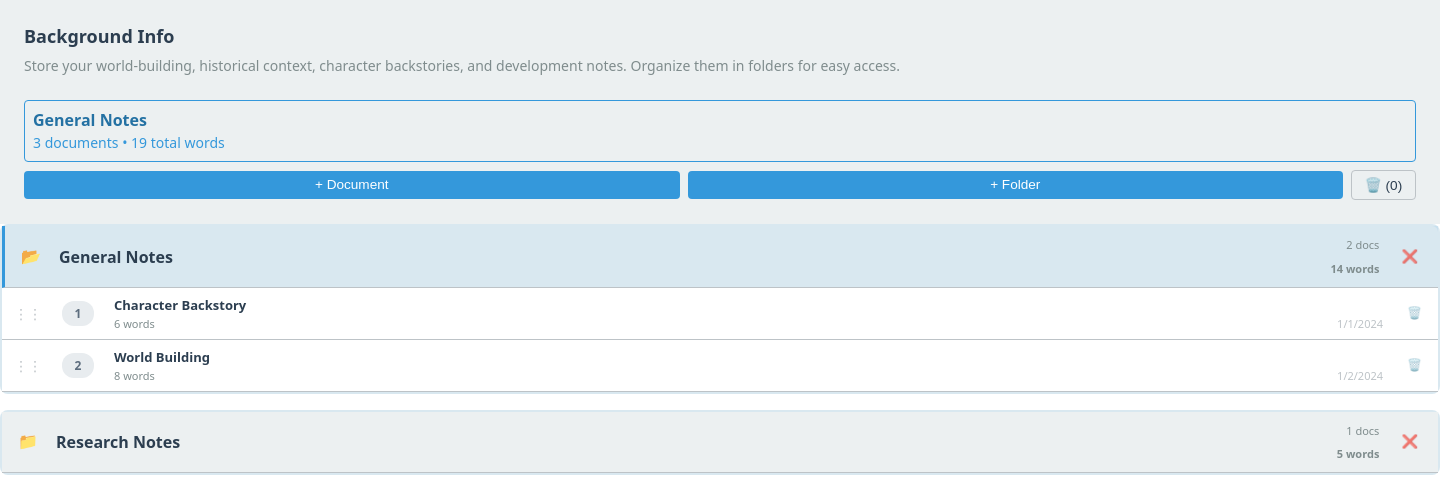
Test: BackgroundList Component › enables folder title editing on double-click
The width and height of the screenshot is (1440, 492).
Double-click the text titled "Click to select folder, double-click to rename" next to "14" at (116, 257), box [59,246,173,268]
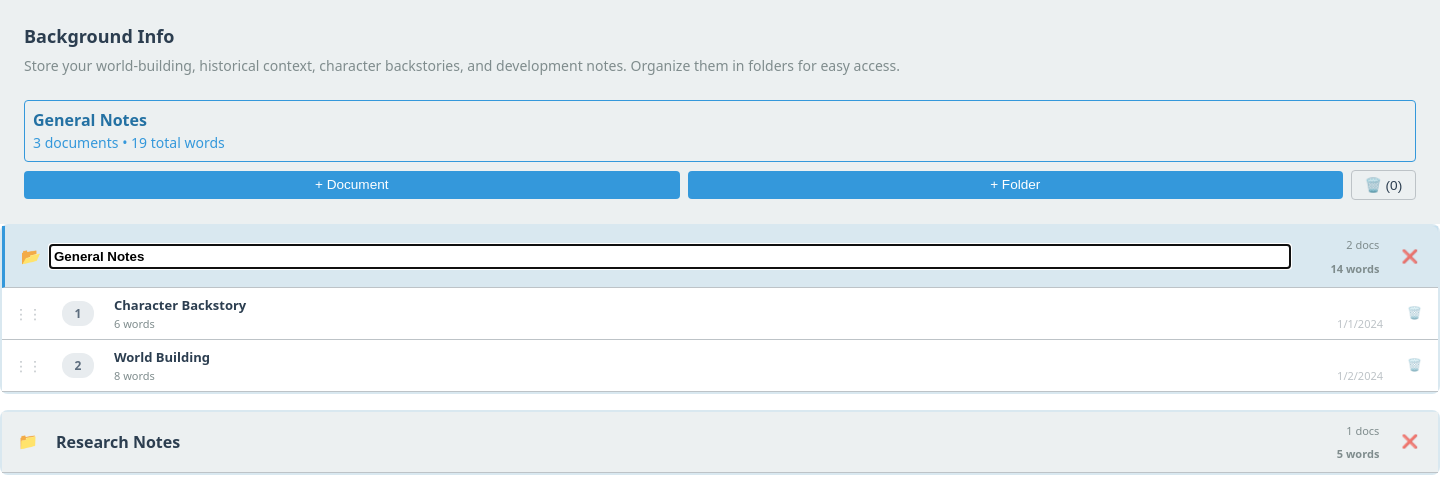
Expected: the field showing "General Notes" is shown, [49,244,1291,269]
